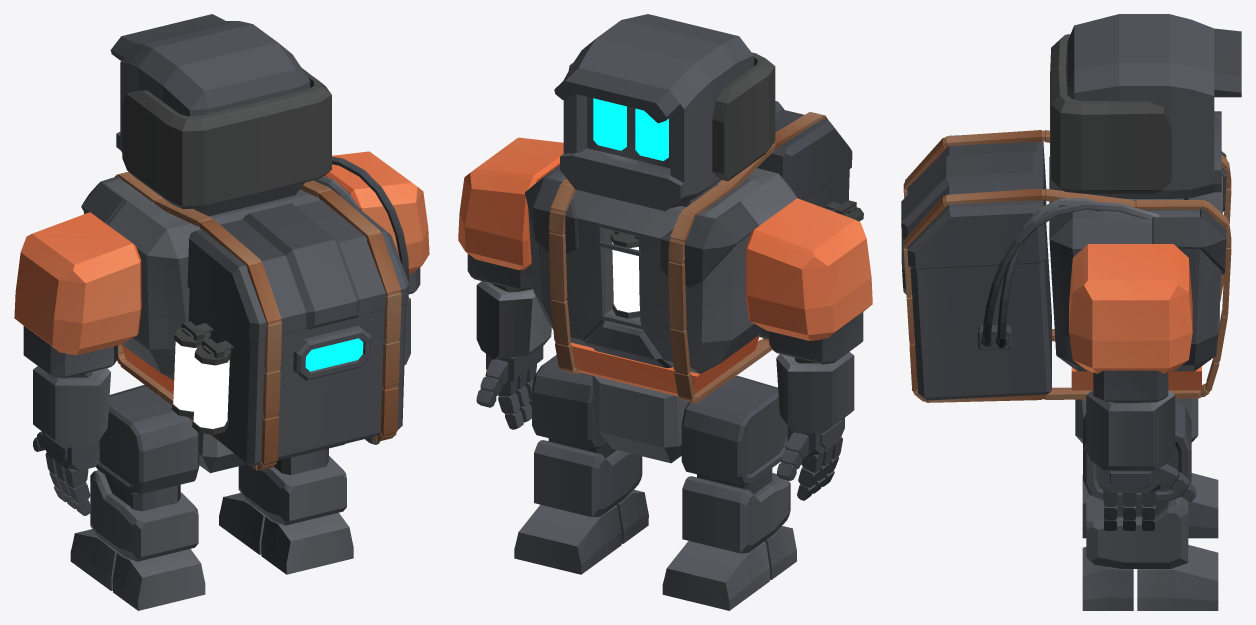
File: player_1.glb
3 views of the same model, side by side, from view 1: azimuth 30°, elevation 25°; view 2: azimuth 150°, elevation 25°; view 3: azimuth 270°, elevation 25° (orthographic).
Visible parts, largest first — view 1: Cube.025, Cube.019, Cube.002, Cube.005, Cube.031, Cube.024, Cube.014, Cube.016, Cylinder, Cube.001, Cube.032, Cube.017 (+14 smaller); view 2: Cube.024, Cube.005, Cube.002, Cube.031, Cube.014, Cube.032, Cube.016, Cube.001, Cube.004, Cube.019, Cube.025, Cube.021 (+17 smaller); view 3: Cube.025, Cube.005, Cube.032, Cube.024, Cube.019, Cube.031, Cylinder.005, Cube.001, Cube.021, Cube.027, Cube.030, Cube.033 (+10 smaller).
Boxes of the visible parts, x1=… form: Cube.025: x1=181, y1=195, x2=408, y2=466; Cube.019: x1=122, y1=68, x2=331, y2=209; Cube.002: x1=14, y1=212, x2=141, y2=355; Cube.005: x1=116, y1=21, x2=310, y2=216; Cube.031: x1=114, y1=171, x2=401, y2=470; Cube.024: x1=81, y1=176, x2=332, y2=379; Cube.014: x1=95, y1=385, x2=199, y2=494; Cube.016: x1=90, y1=470, x2=198, y2=561; Cylinder: x1=33, y1=366, x2=110, y2=447; Cube.001: x1=238, y1=456, x2=346, y2=525; Cube.032: x1=324, y1=151, x2=429, y2=274; Cube.017: x1=112, y1=549, x2=205, y2=610; Cube.024: x1=525, y1=165, x2=797, y2=373; Cube.005: x1=560, y1=14, x2=753, y2=211; Cube.002: x1=746, y1=198, x2=872, y2=340; Cube.031: x1=549, y1=112, x2=828, y2=402; Cube.014: x1=681, y1=375, x2=787, y2=485; Cube.032: x1=458, y1=137, x2=563, y2=270; Cube.016: x1=682, y1=473, x2=790, y2=553; Cube.001: x1=534, y1=440, x2=642, y2=516; Cube.004: x1=592, y1=375, x2=689, y2=463; Cube.019: x1=568, y1=52, x2=775, y2=181; Cube.025: x1=757, y1=101, x2=856, y2=339; Cube.021: x1=514, y1=504, x2=621, y2=574; Cube.025: x1=901, y1=135, x2=1051, y2=400; Cube.005: x1=1067, y1=14, x2=1221, y2=198; Cube.032: x1=1069, y1=244, x2=1192, y2=373; Cube.024: x1=1049, y1=151, x2=1226, y2=371; Cube.019: x1=1050, y1=34, x2=1171, y2=193; Cube.031: x1=903, y1=130, x2=1231, y2=402; Cylinder.005: x1=1086, y1=390, x2=1175, y2=470; Cube.001: x1=1086, y1=495, x2=1188, y2=568; Cube.021: x1=1137, y1=545, x2=1218, y2=610; Cube.027: x1=1082, y1=547, x2=1133, y2=610; Cube.030: x1=1083, y1=402, x2=1191, y2=500; Cube.033: x1=1093, y1=370, x2=1168, y2=402.
Size of the model in its own units: 2.02 by 2.64 by 1.57.
4 materials, 1 textured.
